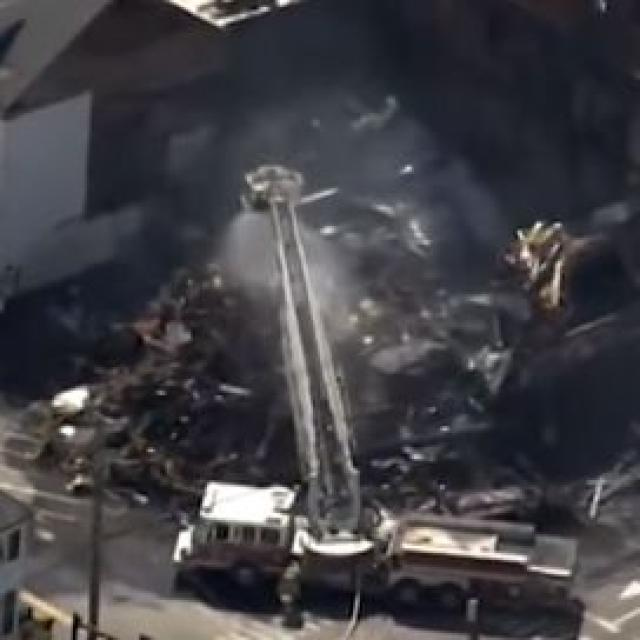collapsed_building: (94, 103, 558, 484)
